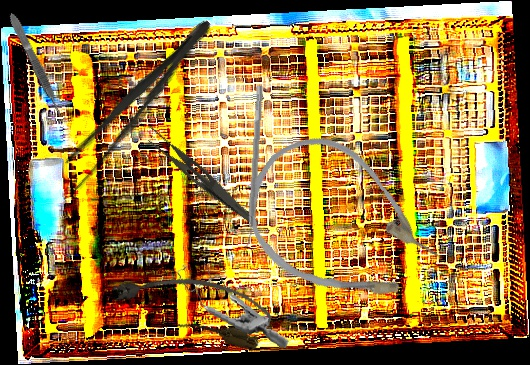Cannula: (221, 114, 460, 338), (106, 253, 277, 355)
Dressing Forceps: (51, 9, 222, 197), (137, 123, 269, 228)
Spatula Surgical: (240, 85, 264, 251)
Speculum: (167, 248, 300, 349)
Tissue Forceps: (6, 10, 65, 119)
